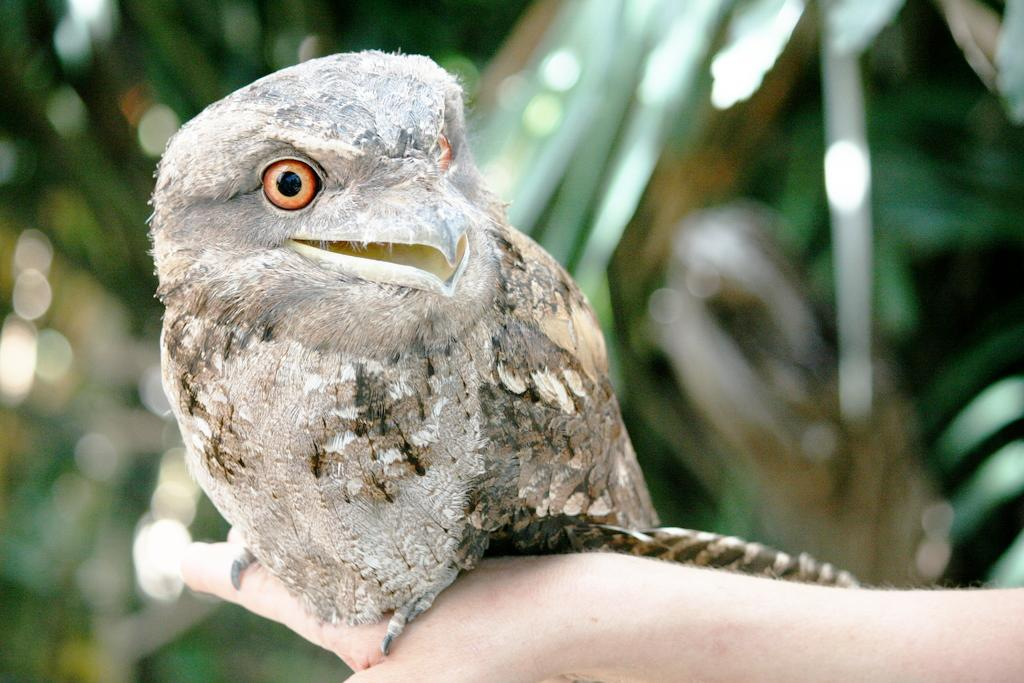Owl: (153, 47, 710, 660)
